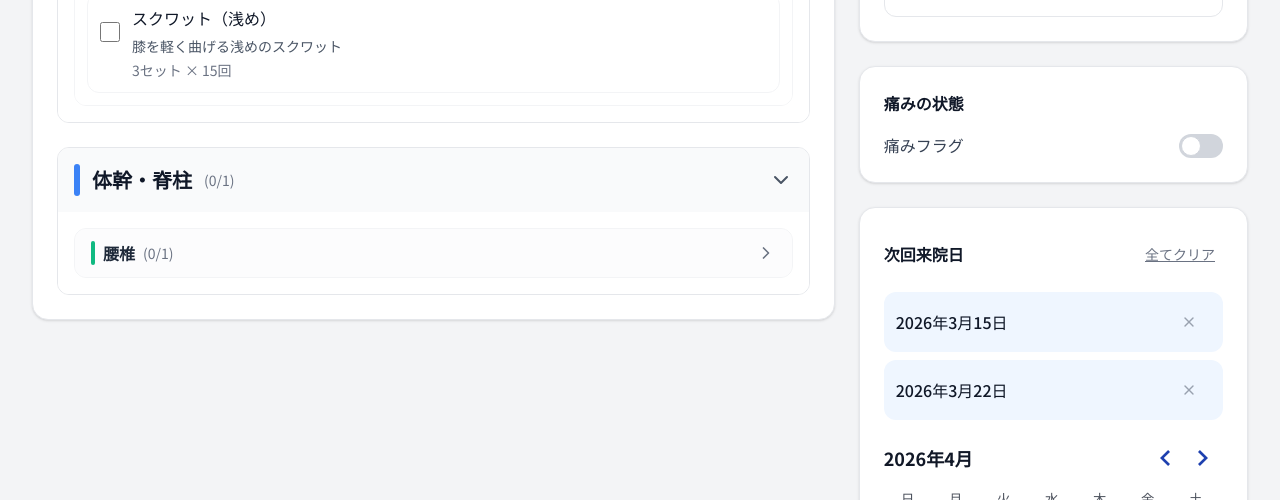
it: S-06 ExerciseMenu › next visit date › should remove individual date when its delete button is clicked
(page scrolled)
expect the text "2026年3月15日" is shown: met, box [896,310,1008,334]
expect the text "2026年3月22日" is shown: met, box [896,378,1008,402]
Click the button named "2026年3月15日を削除" at (1189, 322), box [1167,300,1211,344]
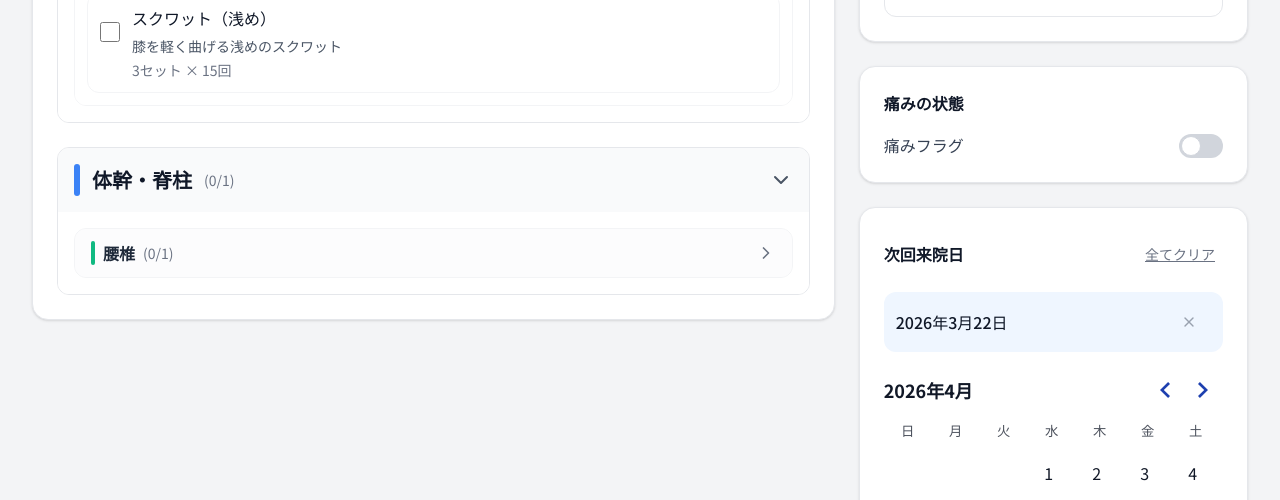
expect the text "2026年3月22日" is shown: met, box [896,310,1008,334]
expect the text "2026年3月15日" is gone: met
